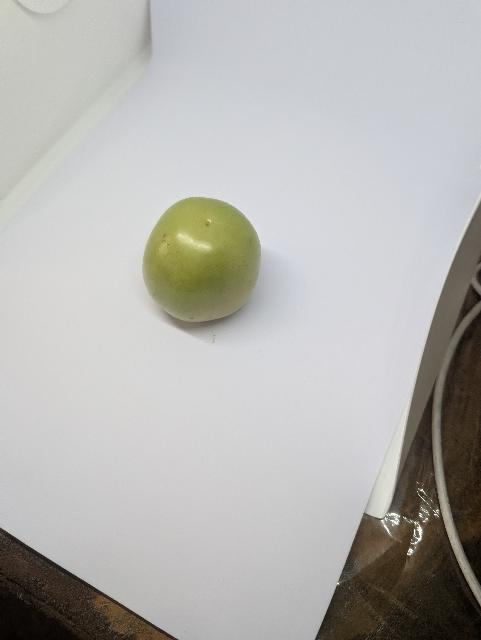green: (139, 182, 267, 342)
